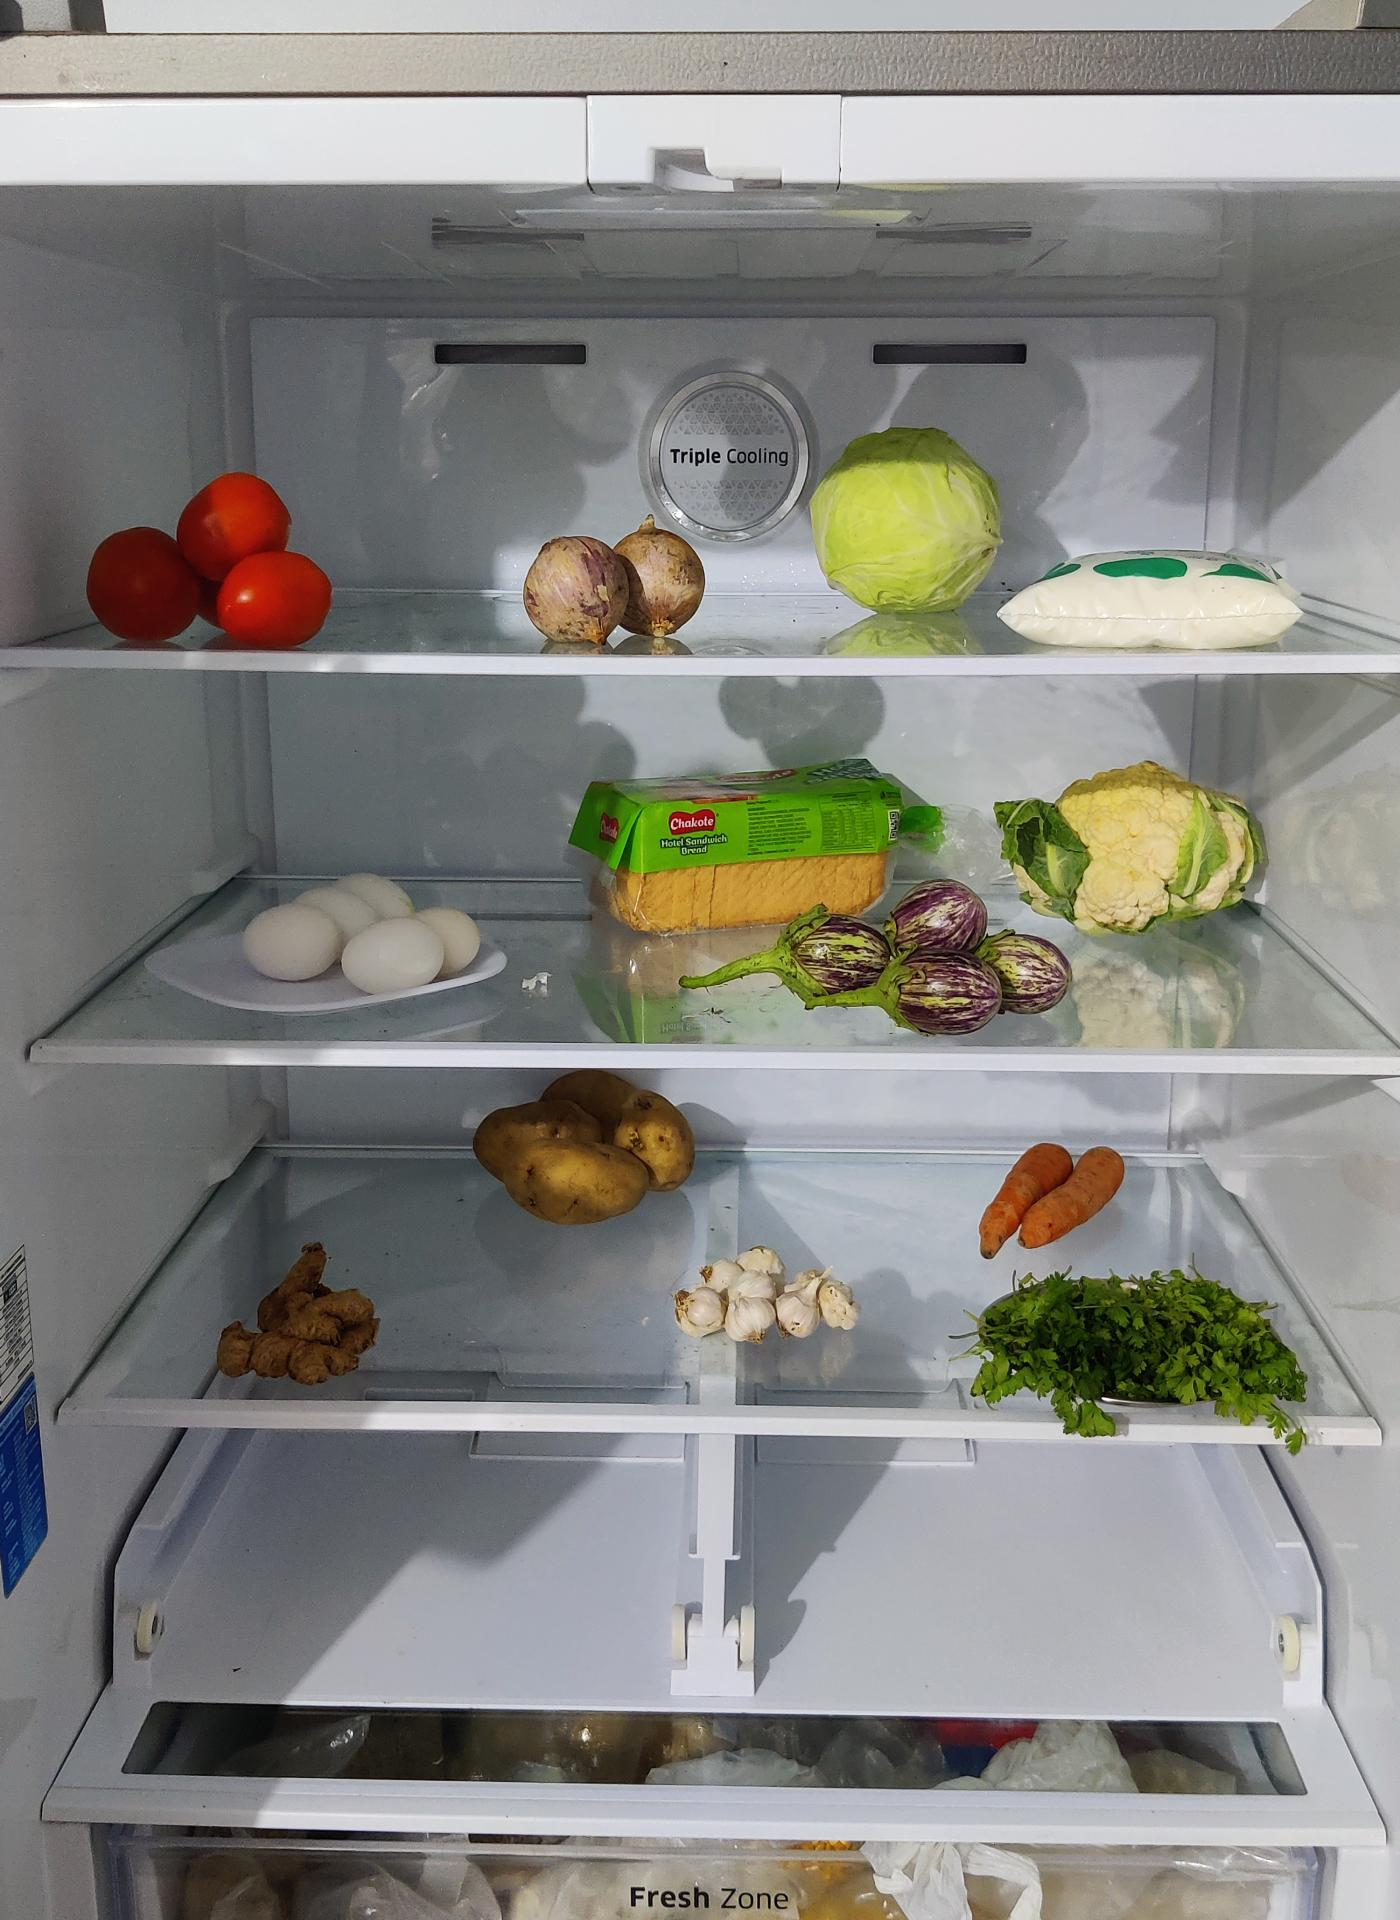bread: (581, 763, 930, 930)
brinjal: (786, 865, 1079, 1039)
cabbage: (810, 422, 1003, 610)
carrots: (981, 1131, 1129, 1251)
cauliflower: (1002, 759, 1263, 930)
coriander: (972, 1267, 1317, 1406)
egg: (225, 865, 485, 997)
garlic: (677, 1248, 860, 1351)
ginger: (218, 1245, 386, 1386)
milk: (999, 552, 1308, 653)
onion: (519, 520, 702, 637)
potato: (477, 1063, 701, 1215)
tomato: (83, 477, 331, 653)
